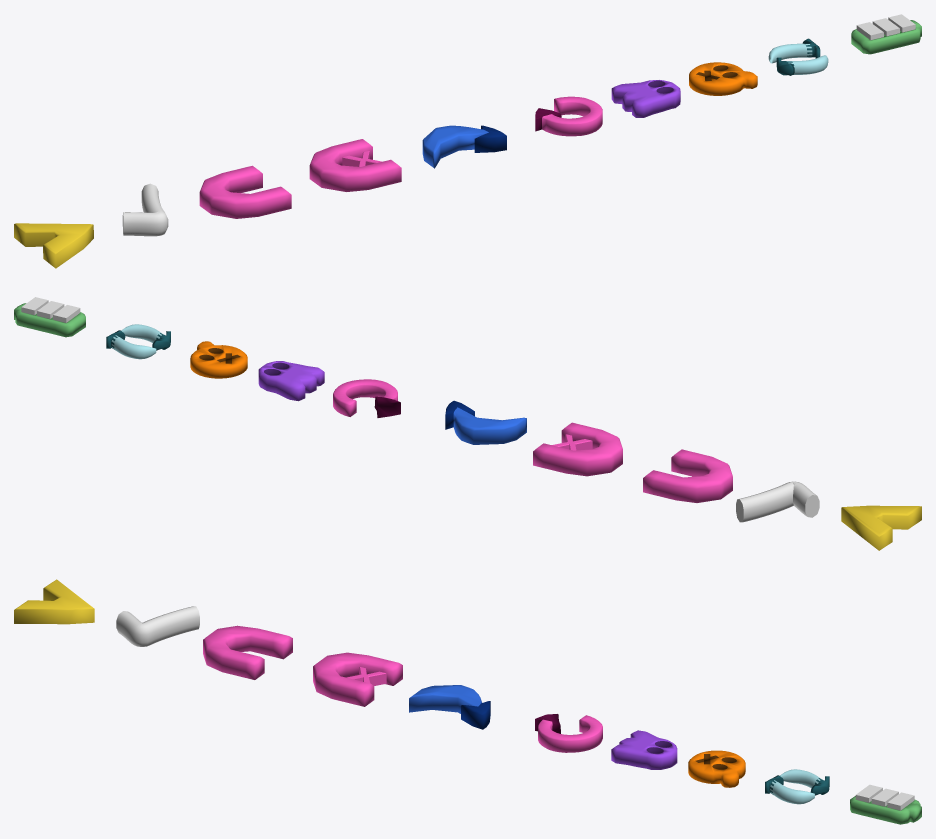
The model's file is move_icons.glb.
The picture shows the model from 3 angles, top to bottom: view 1: azimuth 30°, elevation 25°; view 2: azimuth 150°, elevation 25°; view 3: azimuth 330°, elevation 25°; orthographic projection.
Parts seen in each view (by area): view 1: Repel, Attract, Move, Jump, Rotate, Ghost, Bomb, CheckMark, Convert, Battery; view 2: Repel, Attract, Move, Jump, CheckMark, Ghost, Rotate, Bomb, Convert, Battery; view 3: Repel, Attract, Move, Jump, CheckMark, Ghost, Rotate, Bomb, Convert, Battery.
Boxes of the visible parts, left/top/right/bottom form: Repel: left=309, top=139, right=401, bottom=191; Attract: left=199, top=165, right=291, bottom=218; Move: left=14, top=223, right=93, bottom=268; Jump: left=422, top=125, right=506, bottom=168; Rotate: left=535, top=96, right=602, bottom=136; Ghost: left=611, top=80, right=680, bottom=117; Bomb: left=689, top=62, right=757, bottom=95; CheckMark: left=122, top=183, right=168, bottom=236; Convert: left=768, top=38, right=828, bottom=75; Battery: left=851, top=20, right=921, bottom=54; Repel: left=533, top=422, right=622, bottom=476; Attract: left=643, top=449, right=732, bottom=502; Move: left=841, top=505, right=921, bottom=550; Jump: left=445, top=400, right=526, bottom=444; CheckMark: left=736, top=481, right=819, bottom=522; Ghost: left=258, top=361, right=324, bottom=401; Rotate: left=333, top=379, right=400, bottom=417; Bomb: left=190, top=341, right=247, bottom=378; Convert: left=106, top=324, right=170, bottom=359; Battery: left=14, top=303, right=85, bottom=337; Repel: left=313, top=652, right=402, bottom=706; Attract: left=203, top=625, right=292, bottom=679; Move: left=14, top=579, right=94, bottom=624; Jump: left=409, top=685, right=490, bottom=729; CheckMark: left=116, top=606, right=199, bottom=646; Ghost: left=611, top=730, right=677, bottom=769; Rotate: left=535, top=714, right=602, bottom=752; Bomb: left=688, top=750, right=745, bottom=787; Convert: left=765, top=769, right=829, bottom=804; Battery: left=850, top=796, right=921, bottom=824.
Size of the model in its own units: 12.07 by 0.319 by 1.09.
1 material, 1 textured.
